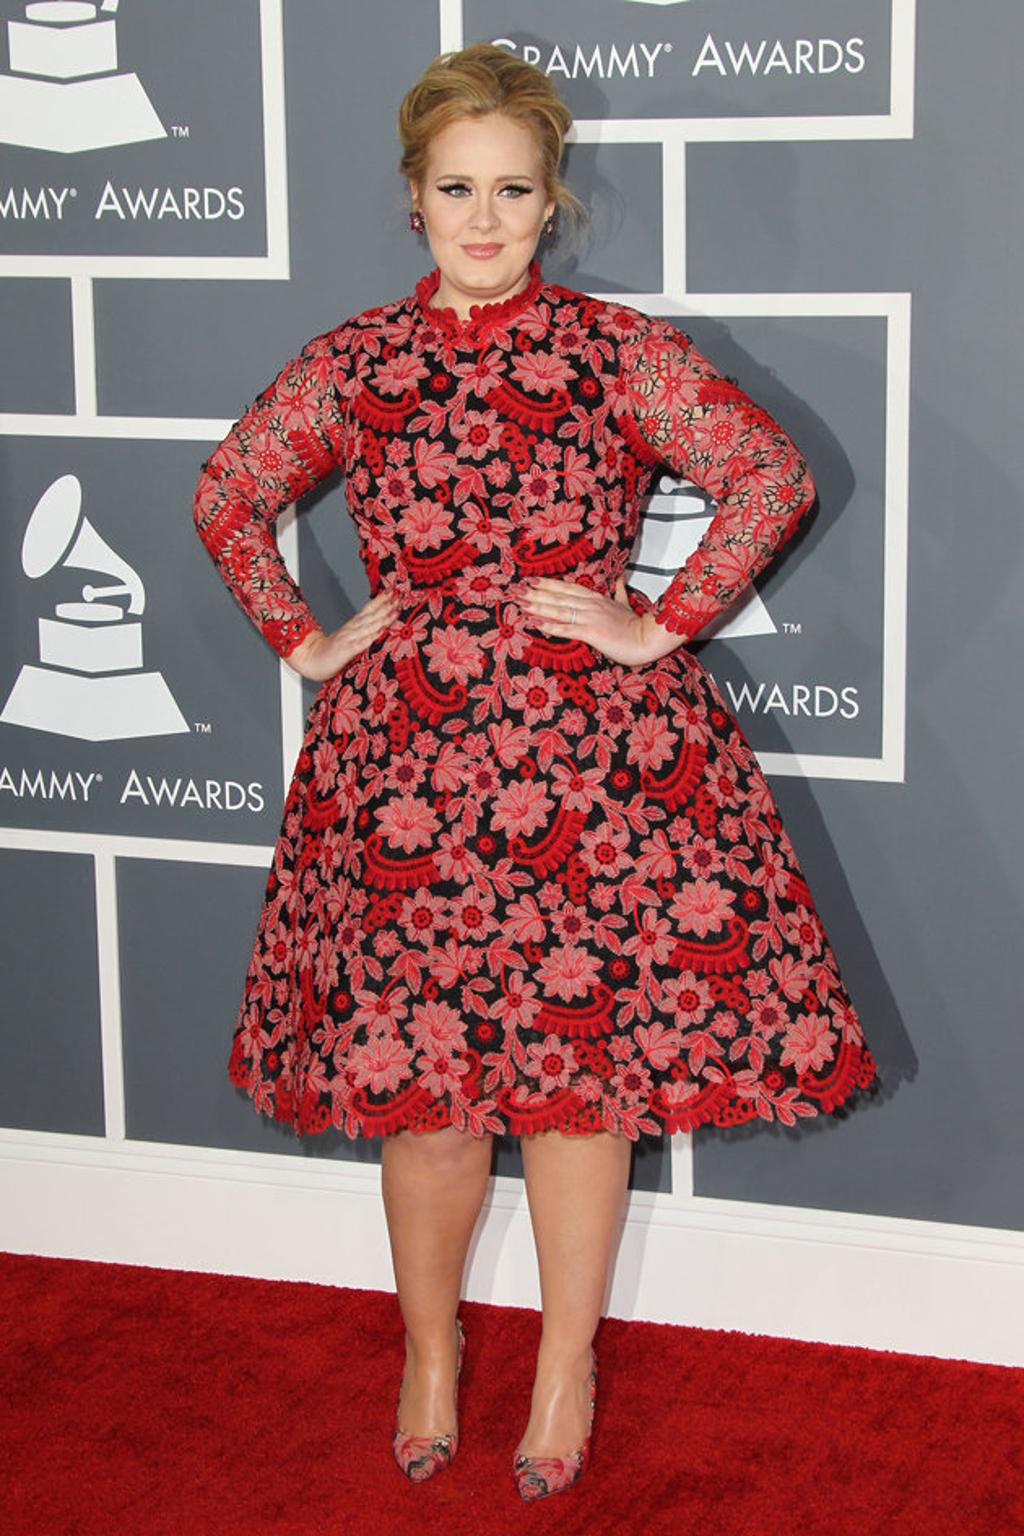face: (417, 114, 546, 291)
